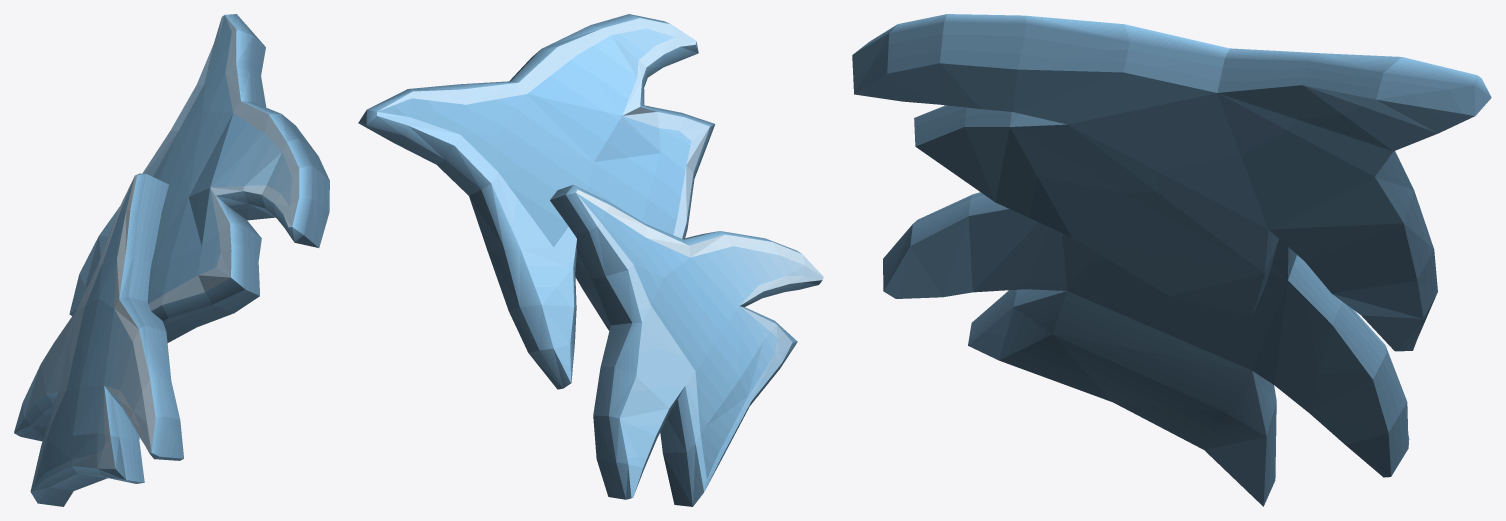
Rendered from CharSkyKid_Horn_Qixi.glb.
3 renders of one model, left to right at view 1: azimuth 30°, elevation 25°; view 2: azimuth 150°, elevation 25°; view 3: azimuth 270°, elevation 25°, orthographic. The views are drawn at different scales.
Visible parts, largest first — view 1: CharSkyKid_Horn_Qixi; view 2: CharSkyKid_Horn_Qixi; view 3: CharSkyKid_Horn_Qixi.
Boxes of the visible parts, left/top/right/bottom form: CharSkyKid_Horn_Qixi: left=14, top=14, right=329, bottom=506; CharSkyKid_Horn_Qixi: left=358, top=14, right=823, bottom=506; CharSkyKid_Horn_Qixi: left=852, top=14, right=1491, bottom=506.
Bounding box in the file's own units: 0.7028 × 0.9236 × 0.8686.
Materials: 1 (1 with a texture image).
